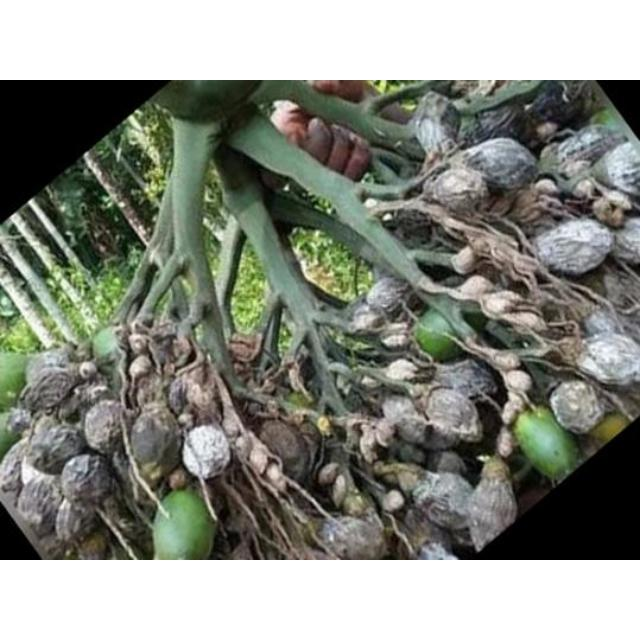damaged: (465, 460, 517, 550), (536, 218, 612, 274), (412, 471, 476, 533), (256, 420, 312, 482), (578, 333, 640, 387), (552, 125, 624, 171), (180, 421, 232, 479), (27, 421, 85, 473), (424, 168, 486, 216), (59, 454, 112, 510), (464, 102, 528, 148), (550, 380, 604, 434), (378, 394, 426, 446), (82, 402, 128, 456), (384, 208, 440, 248), (364, 276, 414, 318), (181, 371, 221, 421), (373, 461, 425, 495), (580, 306, 626, 342), (132, 372, 166, 412), (349, 306, 387, 336), (591, 194, 625, 226), (150, 331, 178, 369), (482, 292, 522, 318), (499, 311, 545, 333), (458, 274, 494, 302), (429, 450, 466, 476), (382, 359, 420, 383), (138, 460, 166, 488), (342, 492, 371, 518), (358, 430, 380, 464), (452, 246, 478, 274), (503, 370, 533, 394), (248, 446, 272, 476), (128, 354, 152, 382), (221, 412, 243, 442), (493, 352, 522, 372), (381, 490, 405, 514), (496, 428, 514, 459), (318, 463, 340, 487), (502, 400, 524, 424), (266, 462, 286, 488), (128, 333, 150, 355), (331, 474, 347, 504), (574, 179, 598, 199), (533, 179, 559, 197), (78, 362, 98, 381)
